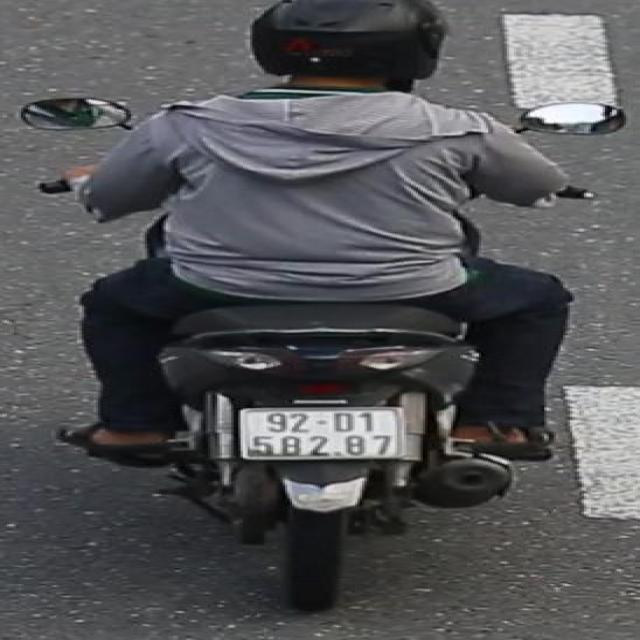LP: (235, 400, 419, 463)
helmet: (232, 2, 456, 102)
